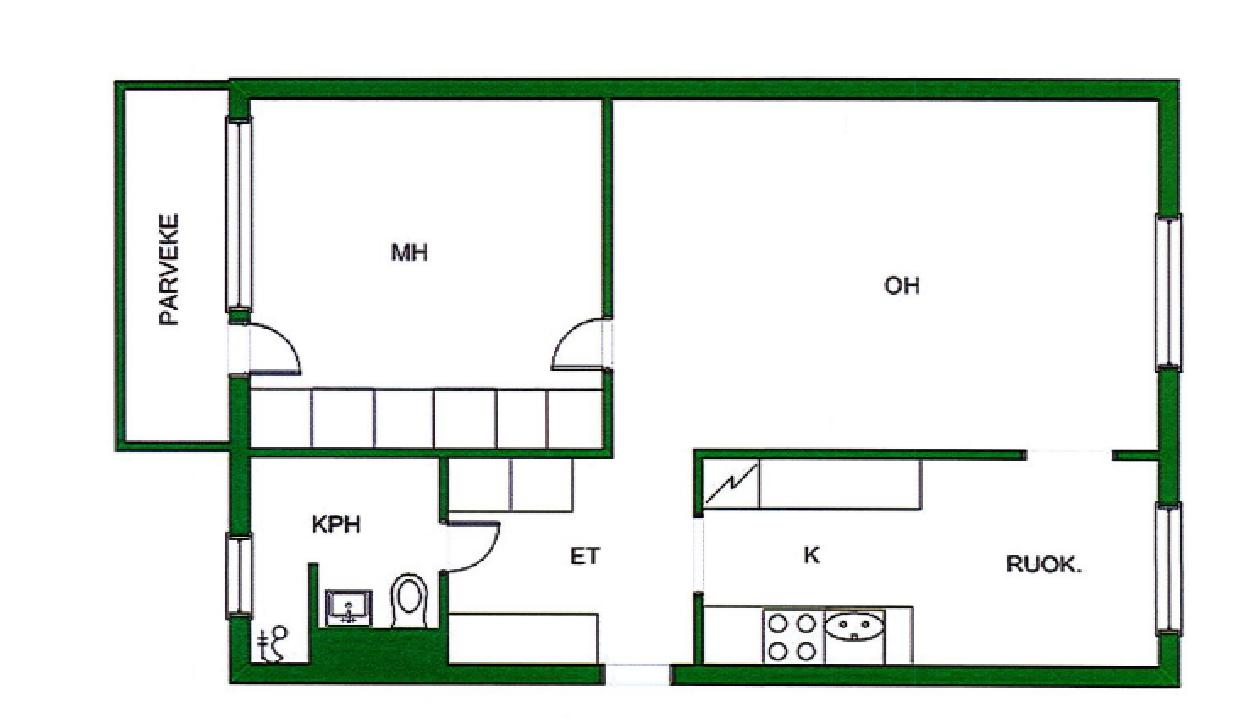window: (227, 121, 256, 308), (1156, 216, 1183, 370), (1155, 505, 1182, 633), (226, 536, 252, 616)
zone: (447, 98, 1156, 669), (251, 95, 602, 446), (704, 458, 1159, 662), (248, 456, 433, 665), (126, 90, 228, 441), (548, 315, 619, 375), (227, 326, 303, 378), (437, 524, 503, 576)
